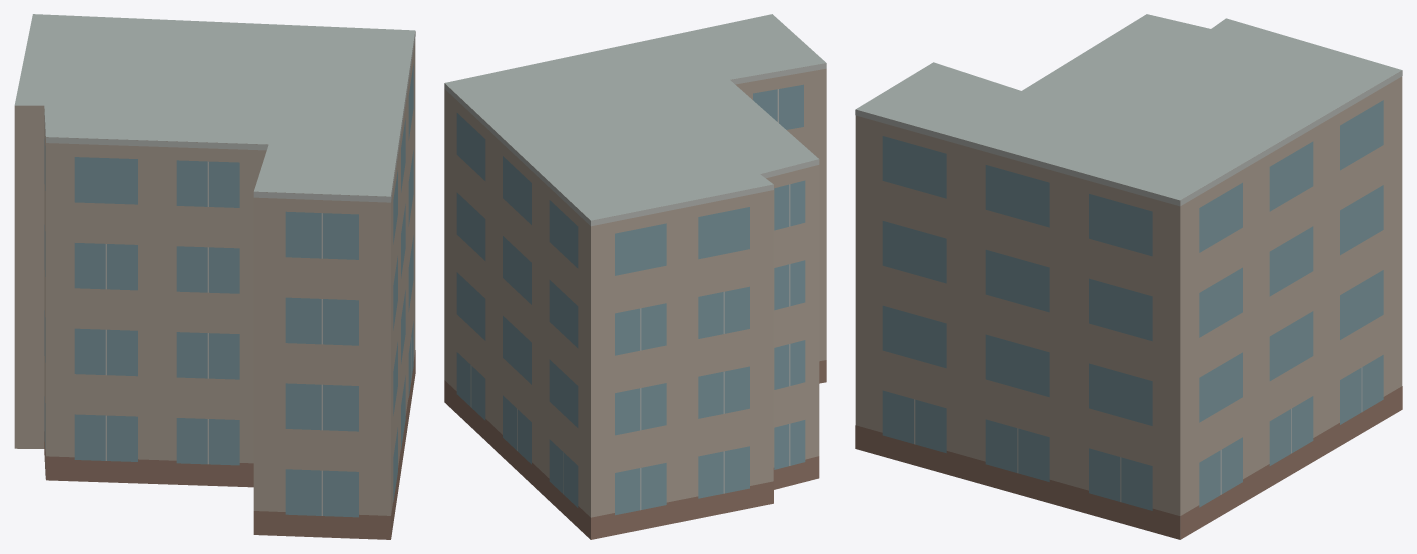
The model's file is survey-upis-32725061.glb.
The picture shows the model from 3 angles, left to right: view 1: azimuth 30°, elevation 25°; view 2: azimuth 150°, elevation 25°; view 3: azimuth 270°, elevation 25°; orthographic projection. The views are drawn at different scales.
Parts seen in each view (by area): view 1: survey-upis-32725061.tmp; view 2: survey-upis-32725061.tmp; view 3: survey-upis-32725061.tmp.
Part boxes in pixels (x1,y1,x2,y2): survey-upis-32725061.tmp: (14,14,415,539); survey-upis-32725061.tmp: (444,14,826,539); survey-upis-32725061.tmp: (855,14,1402,539).
Size of the model in its own units: 16.41 by 13.92 by 20.34.
